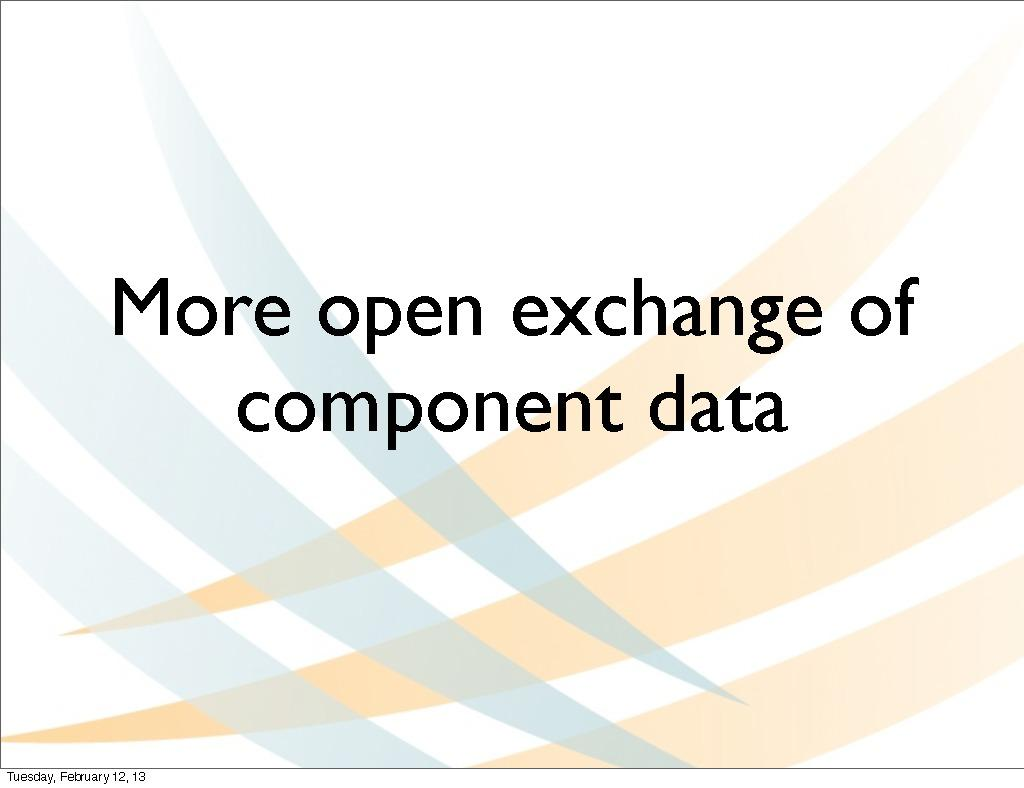title: (104, 253, 934, 475)
